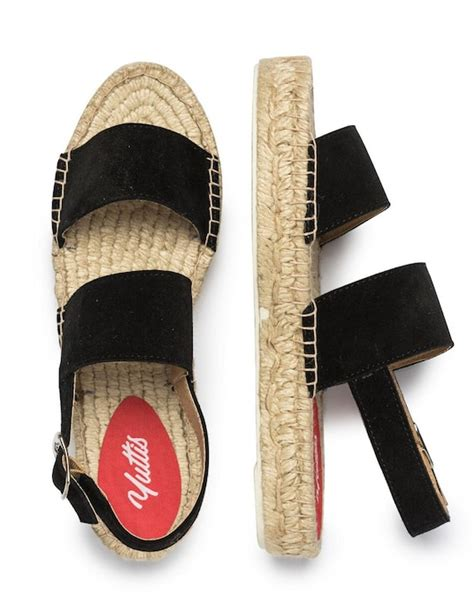gamuza: (54, 121, 454, 553)
